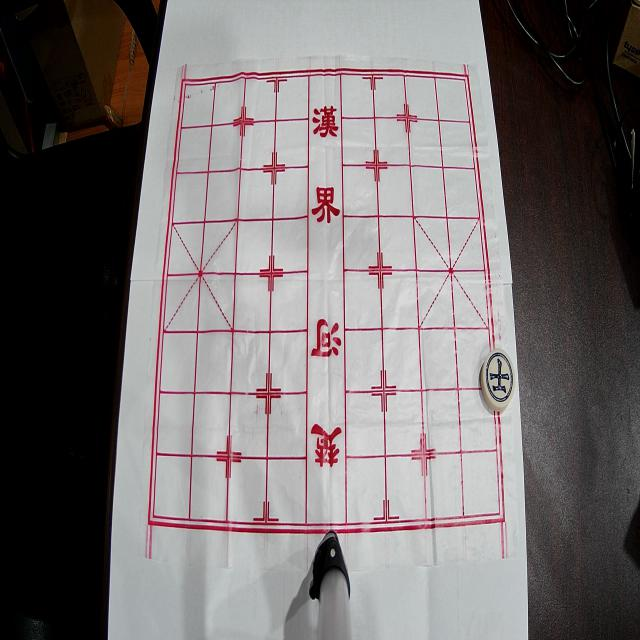black-guard: (481, 349, 515, 411)
